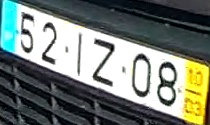0: (130, 51, 152, 98)
2: (40, 20, 58, 67)
5: (18, 10, 34, 54)
8: (155, 60, 178, 107)
I: (75, 30, 83, 77)
Z: (91, 36, 116, 88)
